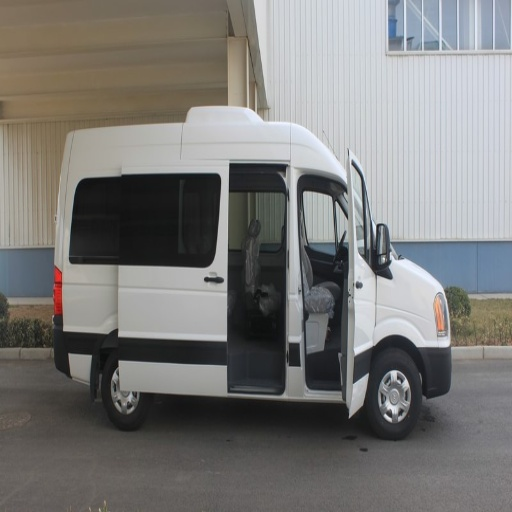trunk: (368, 351, 420, 438), (96, 352, 147, 428)
